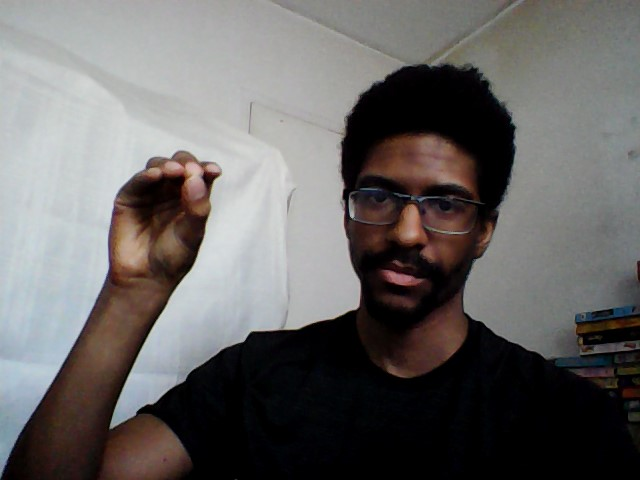o: (104, 147, 226, 289)
